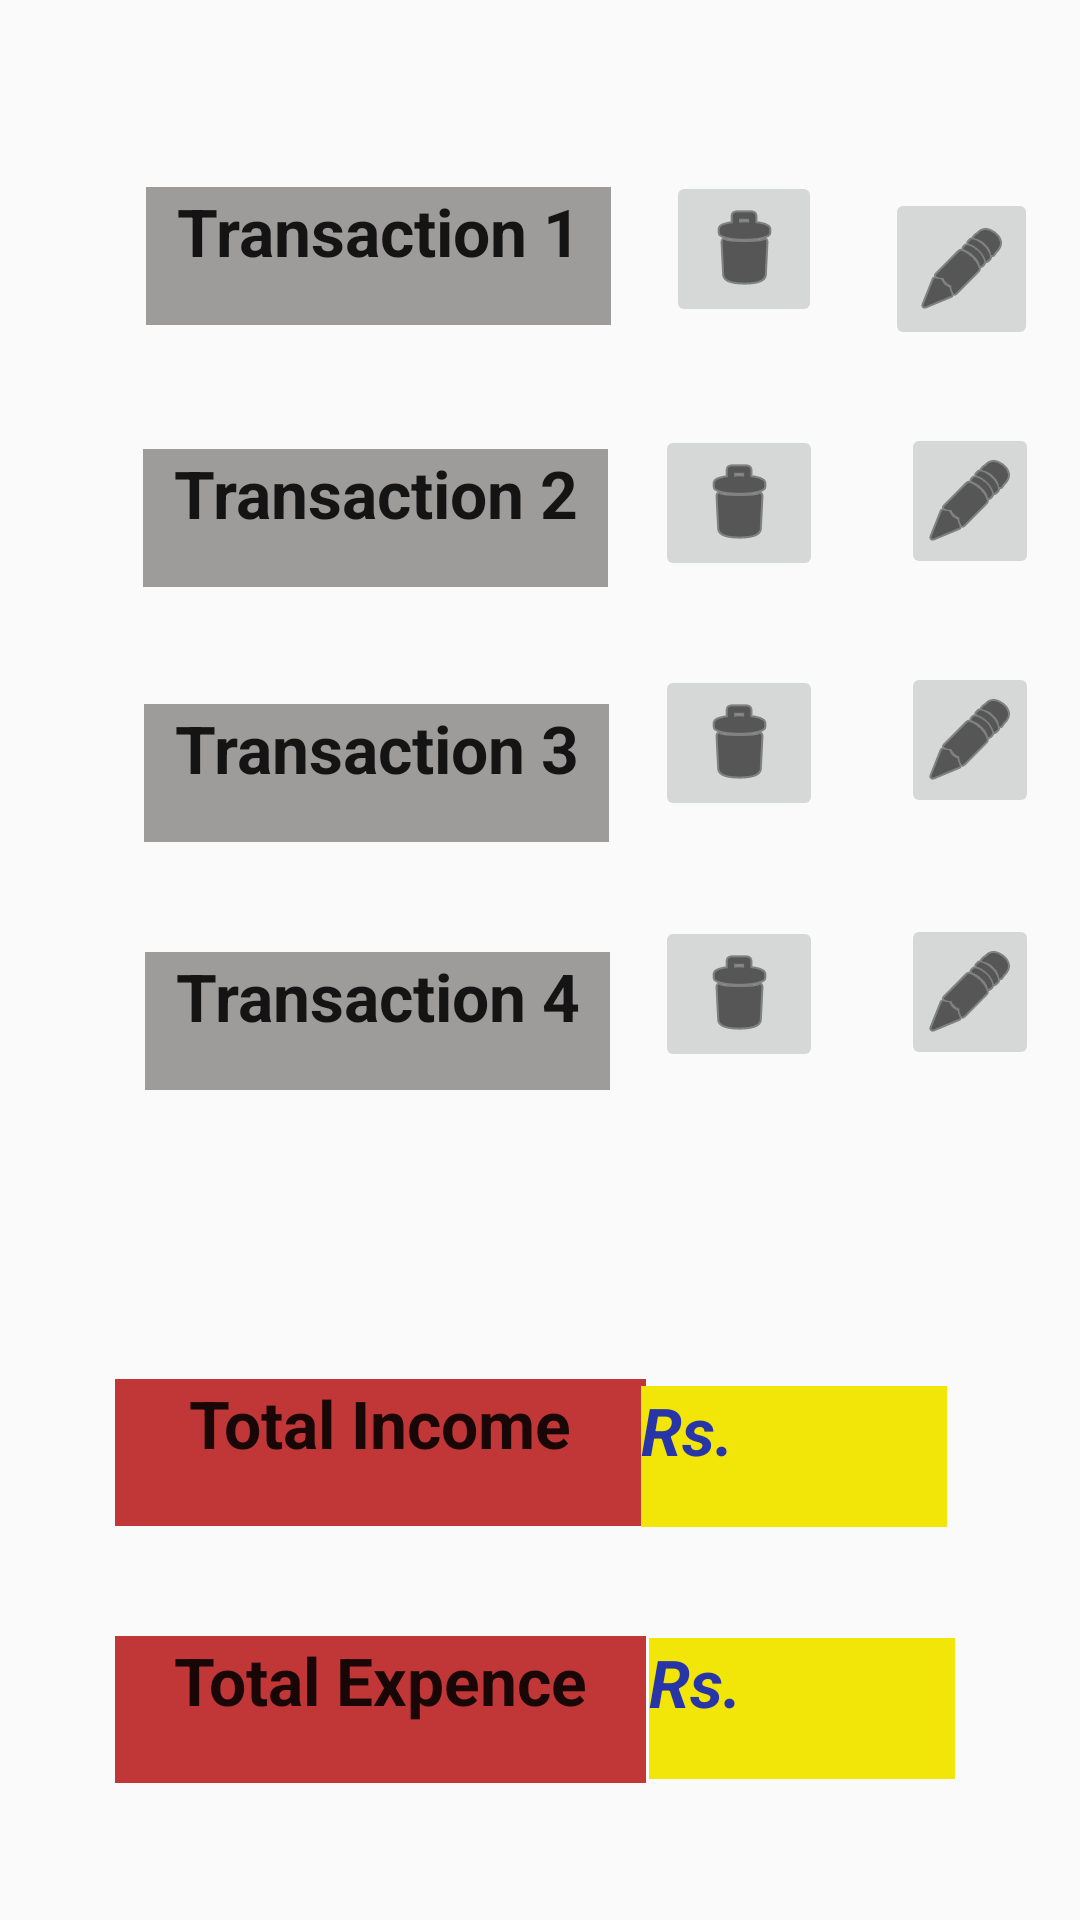

Named icons in this screenshot (1080px×1920px) and their bounding boxes, (x1,y1,x2,y2):
delete: (678,189,810,309), (667,443,811,563), (667,683,811,803), (667,934,811,1054)
edit: (897,206,1026,332), (913,441,1027,561), (913,680,1027,800), (913,932,1027,1052)
